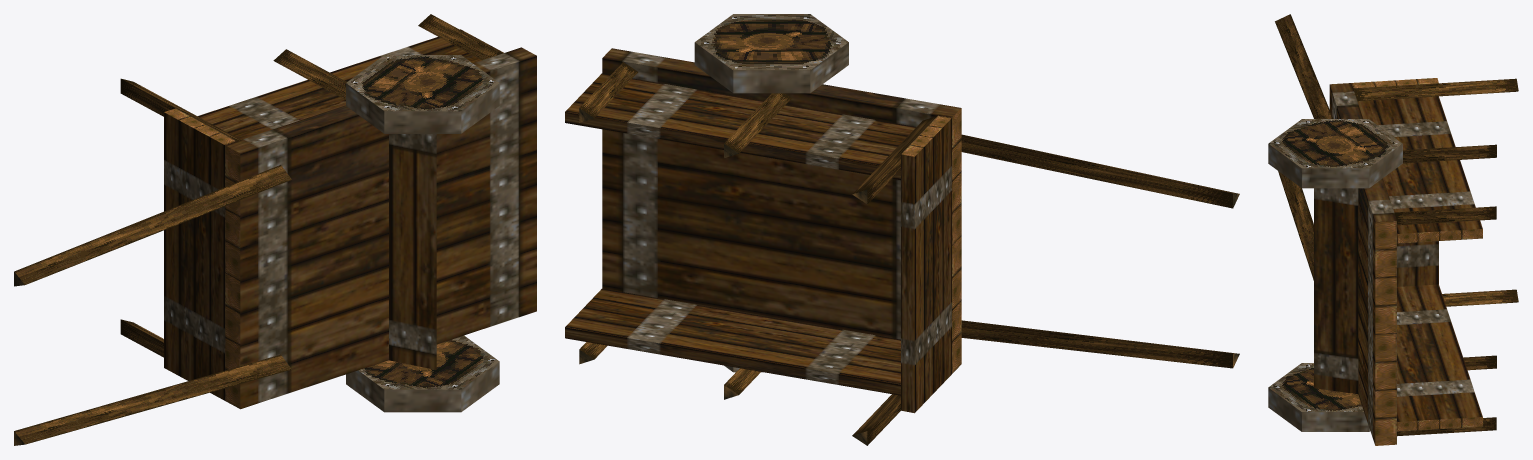
3 renders of one model, left to right at view 1: azimuth 30°, elevation 25°; view 2: azimuth 150°, elevation 25°; view 3: azimuth 270°, elevation 25°, orthographic. The views are drawn at different scales.
Parts seen in each view (by area): view 1: Cube; view 2: Cube; view 3: Cube.
Part boxes in pixels (x1,y1,x2,y2): Cube: (14,14,536,445); Cube: (565,14,1239,445); Cube: (1268,14,1518,445).
Size of the model in its own units: 0.8908 by 0.3864 by 0.4488.
